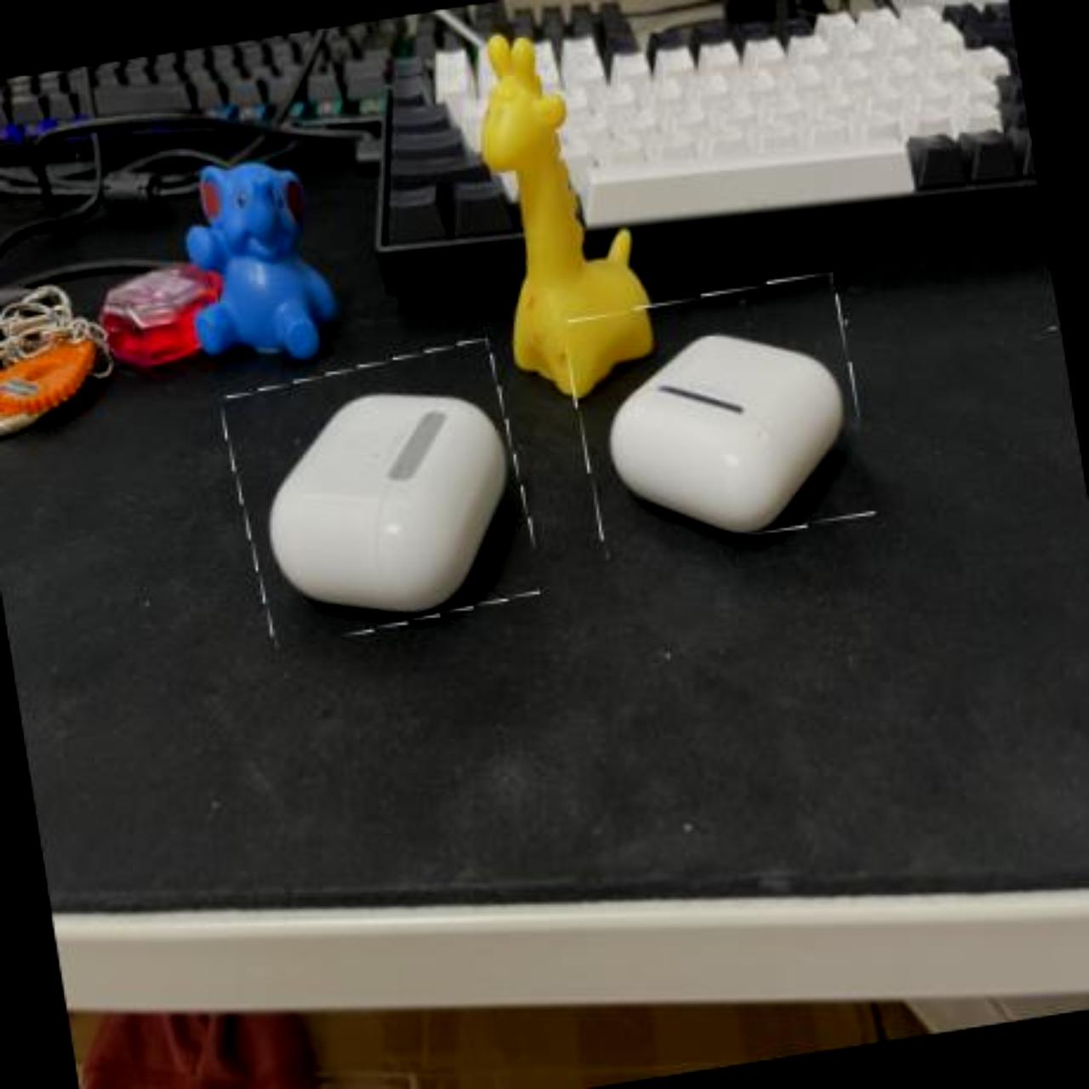AirPods: (223, 342, 544, 649), (564, 273, 877, 561)
